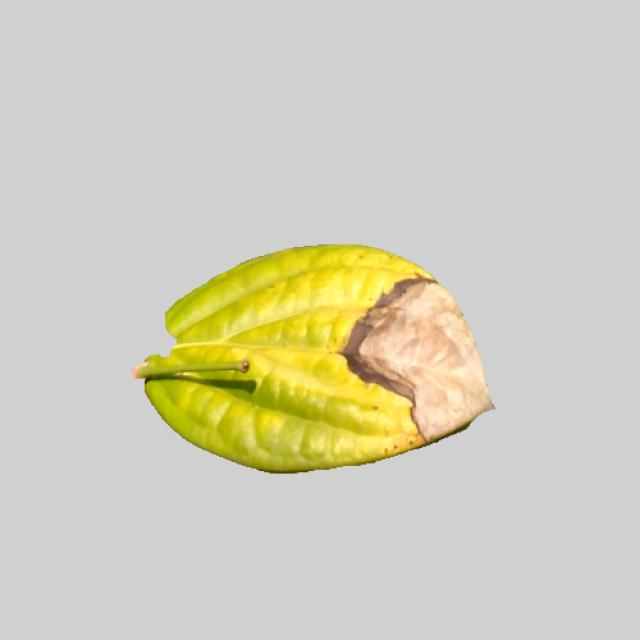leaf-blight: (127, 241, 495, 474)
